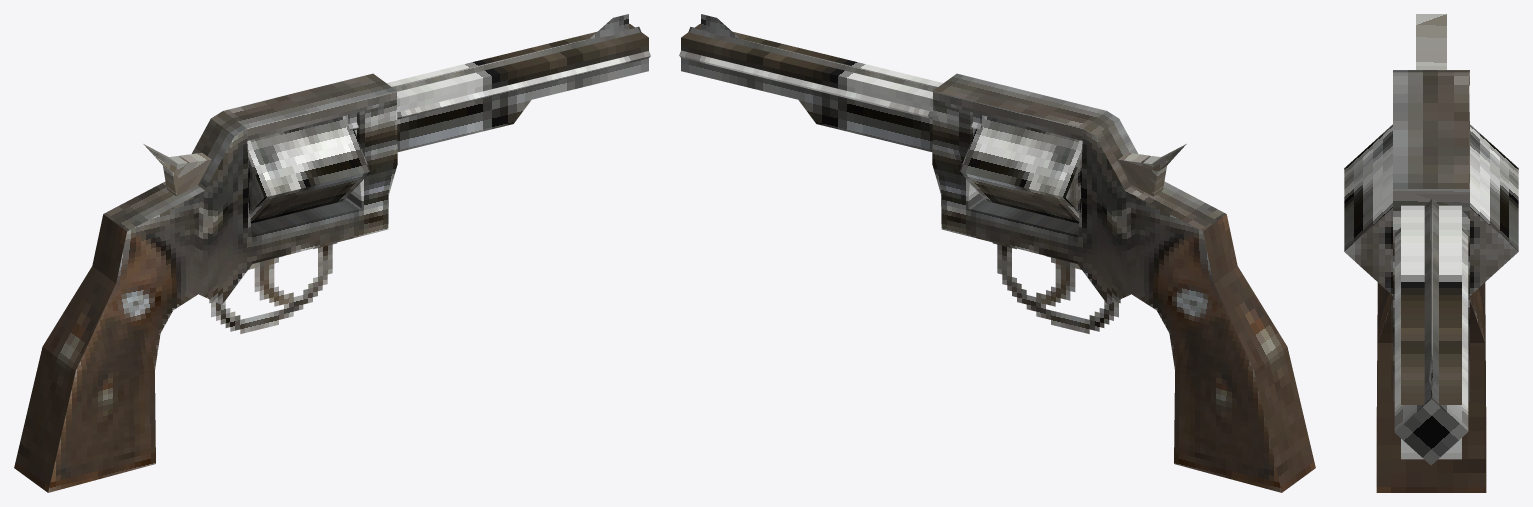
The model's file is Revolver.gltf.
3 views of the same model, side by side, from view 1: azimuth 30°, elevation 25°; view 2: azimuth 150°, elevation 25°; view 3: azimuth 270°, elevation 25° (orthographic). The views are drawn at different scales.
Visible parts, largest first — view 1: Body, Barrer1, cube (×2); view 2: Body, Barrer1, cube (×2); view 3: Body, cube (×2), Barrer1.
Boxes of the visible parts, x1,y1,x2,y2 form: Body: (14,14,650,492); Barrer1: (348,23,648,151); cube (×2): (143,116,370,223); Body: (679,14,1315,492); Barrer1: (681,23,981,151); cube (×2): (959,116,1186,223); Body: (1376,70,1486,492); cube (×2): (1344,14,1518,295); Barrer1: (1401,205,1461,459).
Size of the model in its own units: 4.58 by 2.31 by 0.7071.
Materials: 1 (1 with a texture image).
